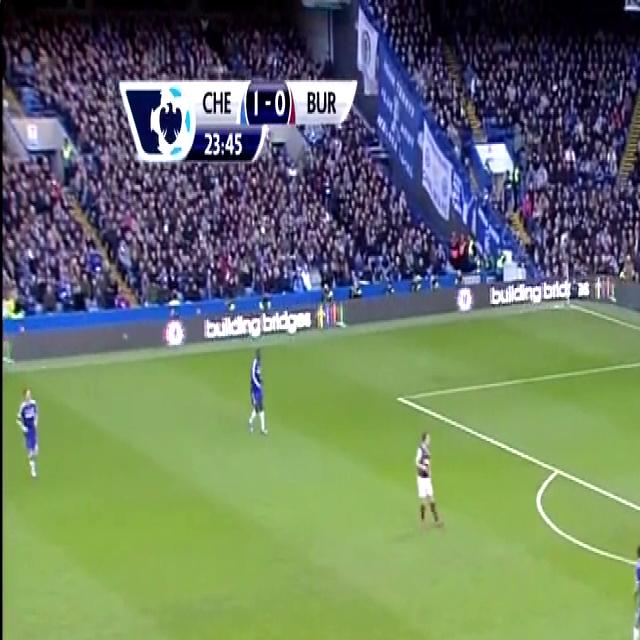soccer-player: (404, 417, 449, 538), (15, 383, 46, 486), (244, 342, 270, 442), (618, 528, 640, 640)
